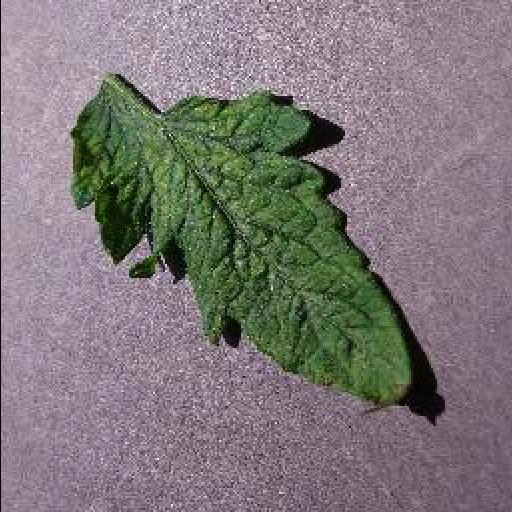Mosaic Virus: (66, 84, 412, 412)
